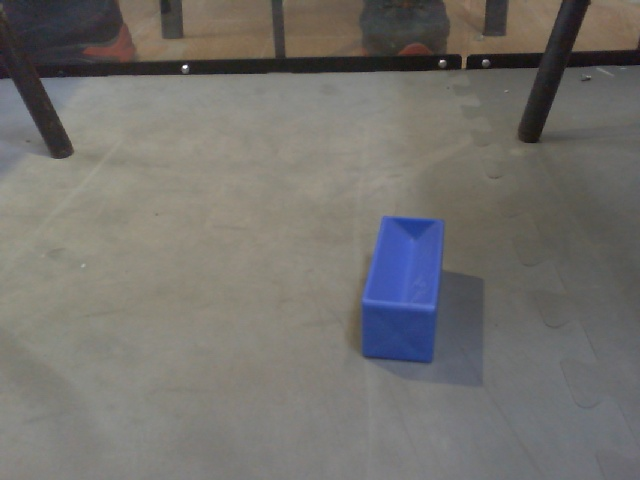BlueSample: (359, 214, 445, 367)
